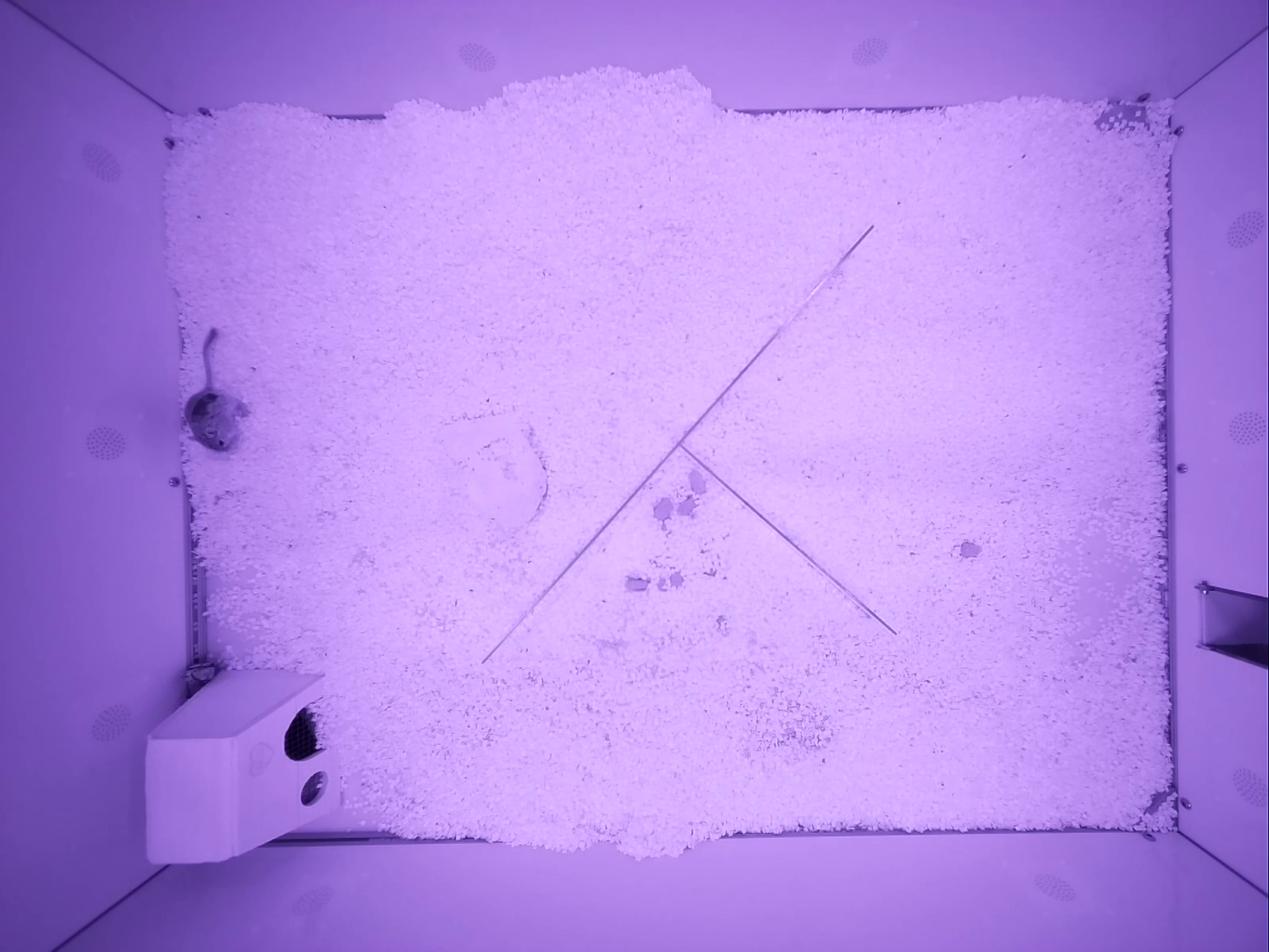adult_back: (186, 328, 247, 450)
